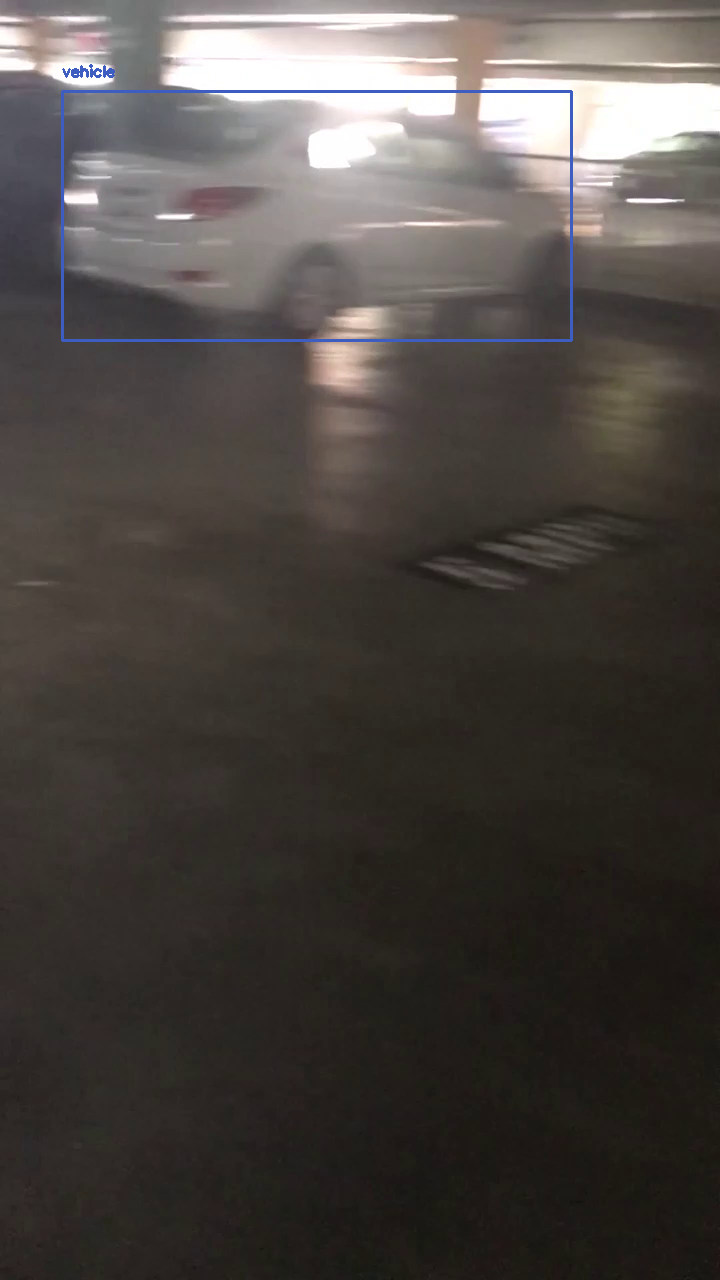vehicle: (62, 91, 571, 340)
